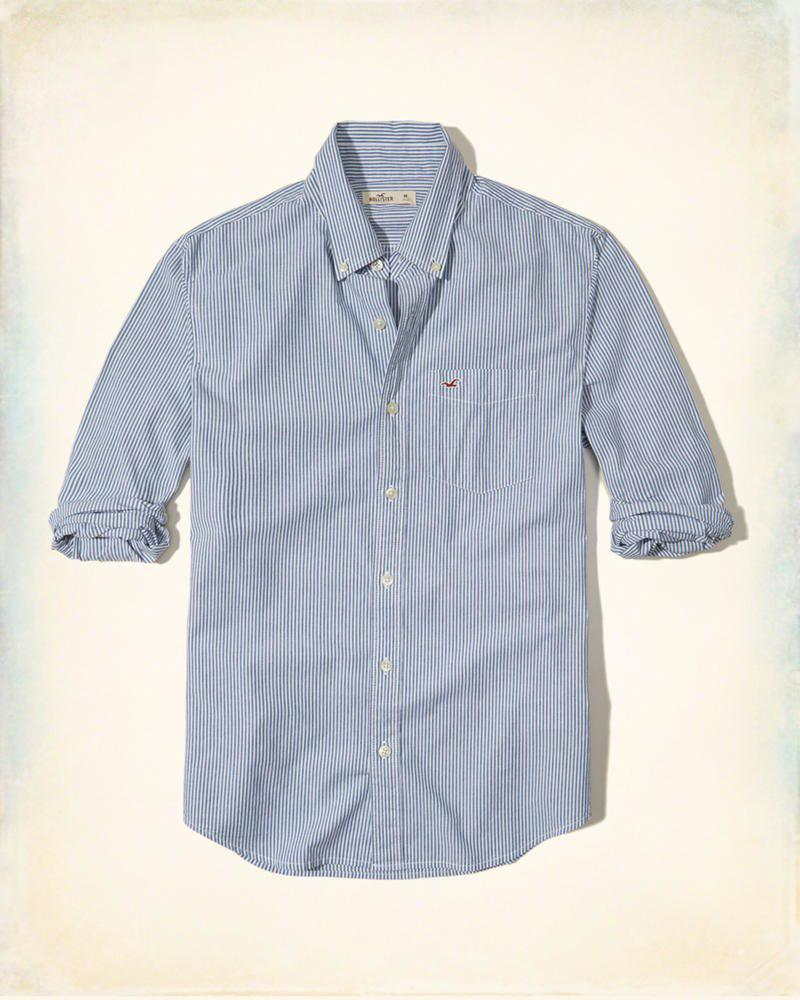teeshirt: (55, 118, 739, 887)
